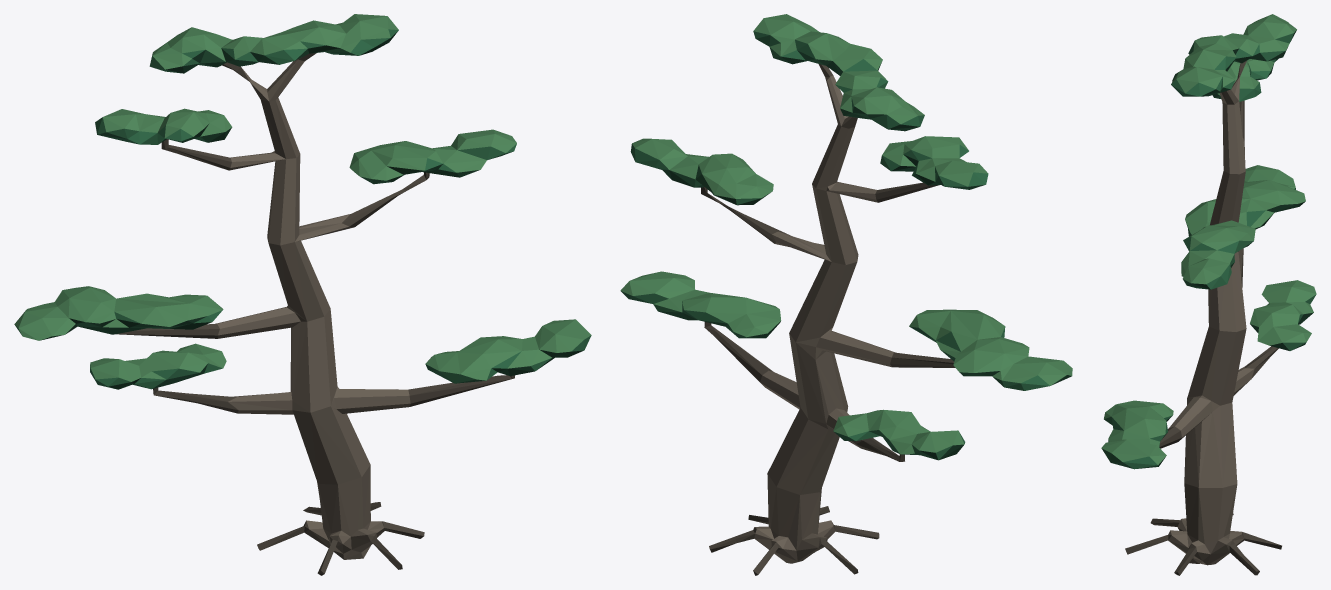
The model's file is ancient-pine-2162-lod2.glb.
3 views of the same model, side by side, from view 1: azimuth 30°, elevation 25°; view 2: azimuth 150°, elevation 25°; view 3: azimuth 270°, elevation 25° (orthographic). The views are drawn at different scales.
Parts seen in each view (by area): view 1: n12.006, n8.006, n9.006, n11.006, n10.006; view 2: n12.006, n8.006, n9.006, n11.006, n10.006; view 3: n8.006, n12.006, n11.006, n9.006, n10.006.
Part boxes in pixels (left/top/right/bottom): n12.006: left=14, top=14, right=591, bottom=381; n8.006: left=215, top=59, right=410, bottom=559; n9.006: left=116, top=53, right=514, bottom=575; n11.006: left=17, top=29, right=591, bottom=389; n10.006: left=15, top=31, right=583, bottom=389; n12.006: left=620, top=14, right=1072, bottom=454; n8.006: left=754, top=75, right=895, bottom=563; n9.006: left=701, top=64, right=955, bottom=575; n11.006: left=630, top=31, right=1049, bottom=459; n10.006: left=621, top=50, right=1071, bottom=460; n8.006: left=1168, top=64, right=1254, bottom=565; n12.006: left=1101, top=14, right=1316, bottom=464; n11.006: left=1101, top=33, right=1316, bottom=469; n9.006: left=1125, top=60, right=1281, bottom=575; n10.006: left=1112, top=30, right=1313, bottom=468.
Size of the model in its own units: 5.31 by 5.41 by 2.12.
